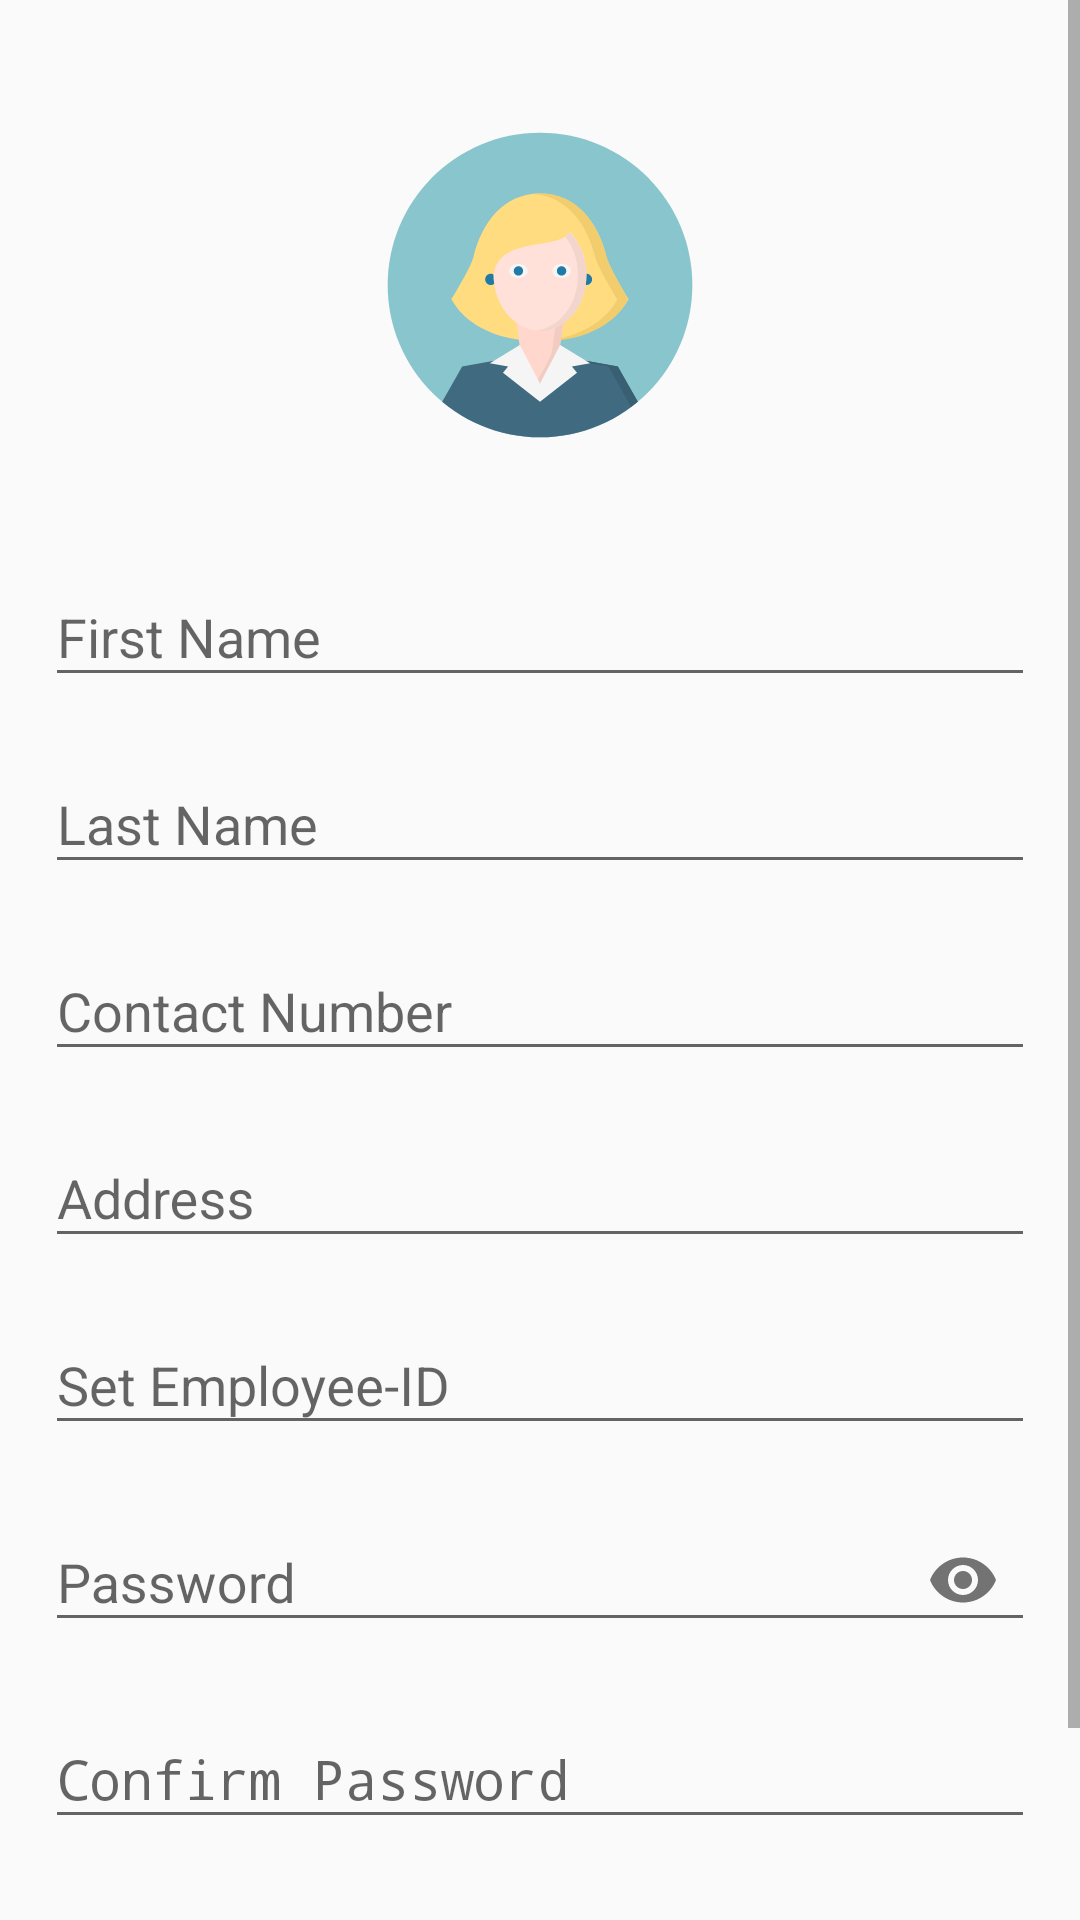

Screen size 1080 x 1920. Icon name, then its box in pixels as (x1, y1, x2, y2):
teacher: (387, 132, 693, 438)
